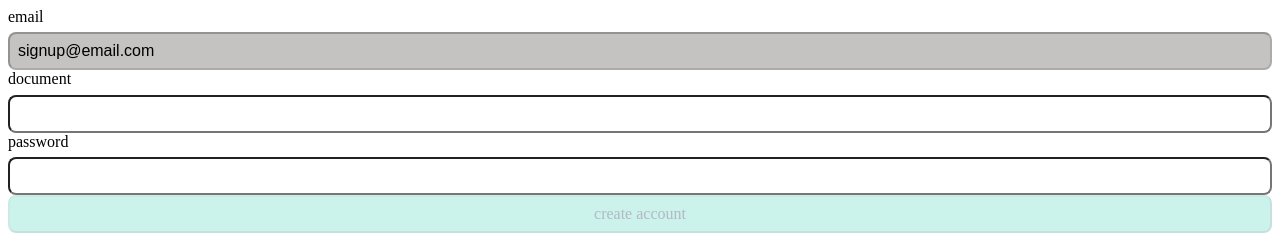
Test: SignUpAccount.svelte › button must be enabled when all required account fields are filled in
The image size is (1280, 250).
In the field labelled "document": (640, 114) [8,95,1272,133], type "123456789"
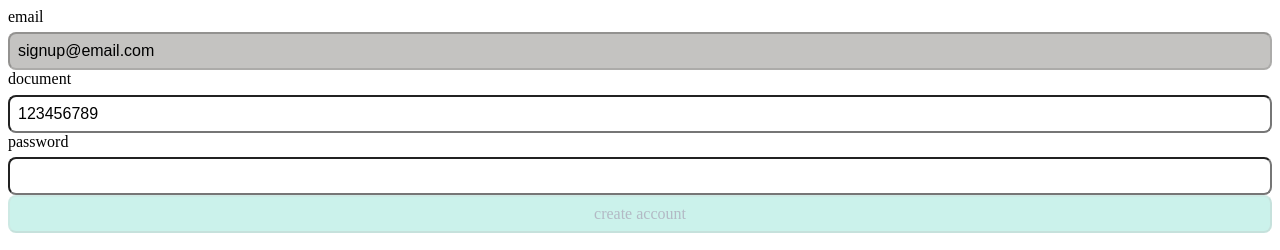
In the field labelled "password": (640, 176) [8,157,1272,195], type "123456"
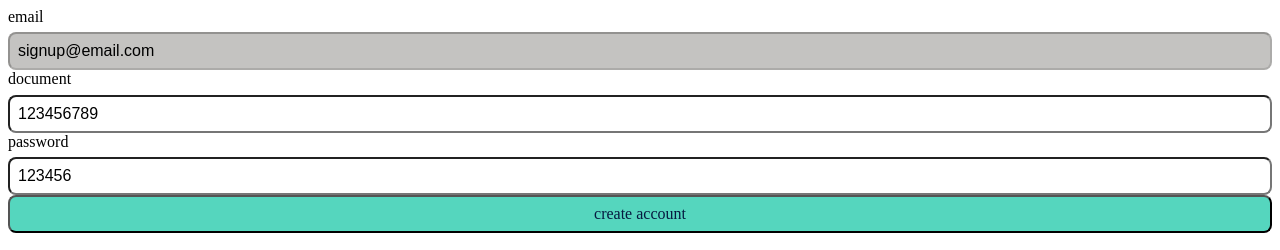
expect the button is enabled: met, box [8,195,1272,233]
